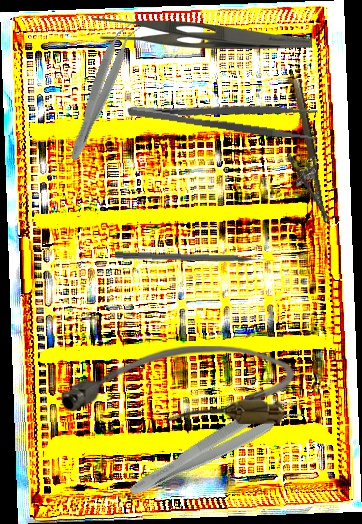Cannula: (60, 346, 294, 424)
Dressing Forceps: (125, 86, 321, 143), (92, 14, 312, 49)
Needle Holder: (273, 78, 330, 228)
Pusher: (114, 251, 276, 266)
Tissue Forceps: (125, 389, 306, 509), (64, 19, 141, 165)
